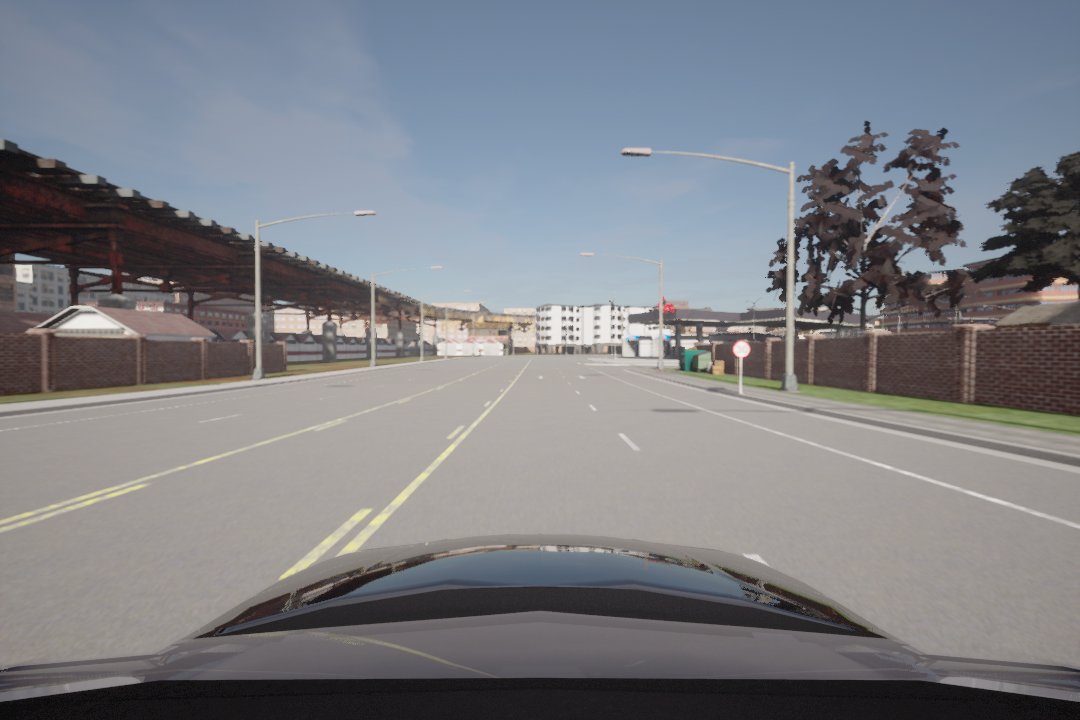TrafficSign_speed: (727, 337, 752, 357)
